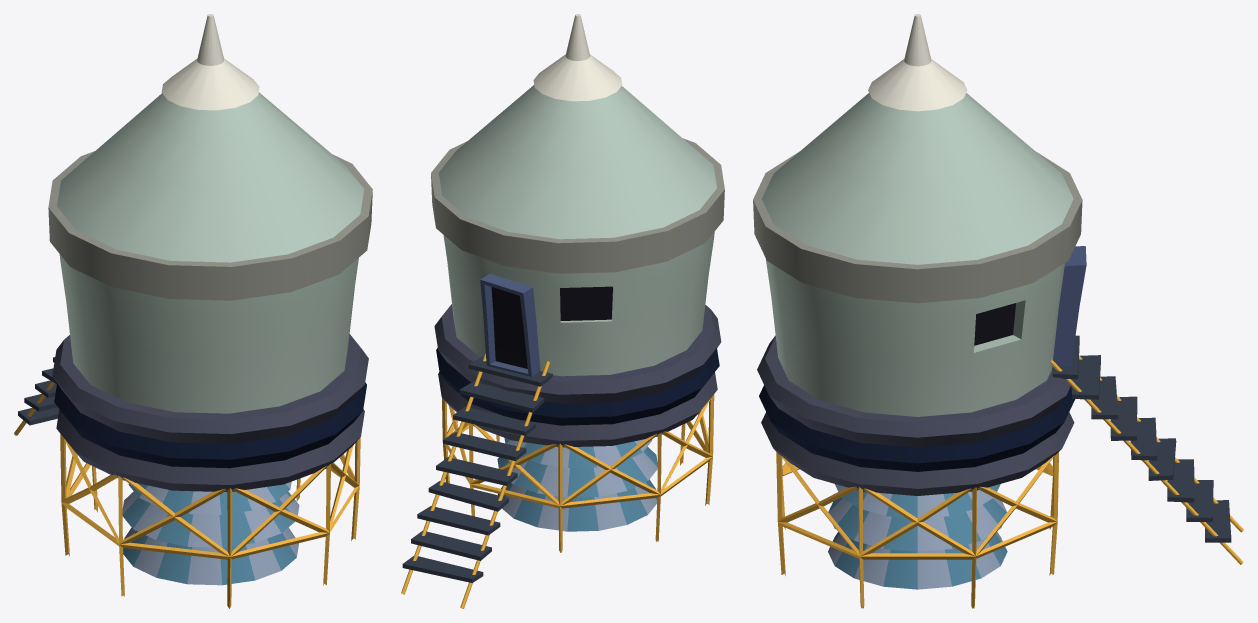
The model's file is module.fbx.
3 views of the same model, side by side, from view 1: azimuth 30°, elevation 25°; view 2: azimuth 150°, elevation 25°; view 3: azimuth 270°, elevation 25° (orthographic). The views are drawn at different scales.
Parts seen in each view (by area): view 1: module; view 2: module; view 3: module.
Part boxes in pixels (bbox=[...]): module: bbox=[14, 14, 372, 608]; module: bbox=[401, 14, 724, 608]; module: bbox=[753, 14, 1243, 608].
Size of the model in its own units: 971 by 1749 by 1447.
